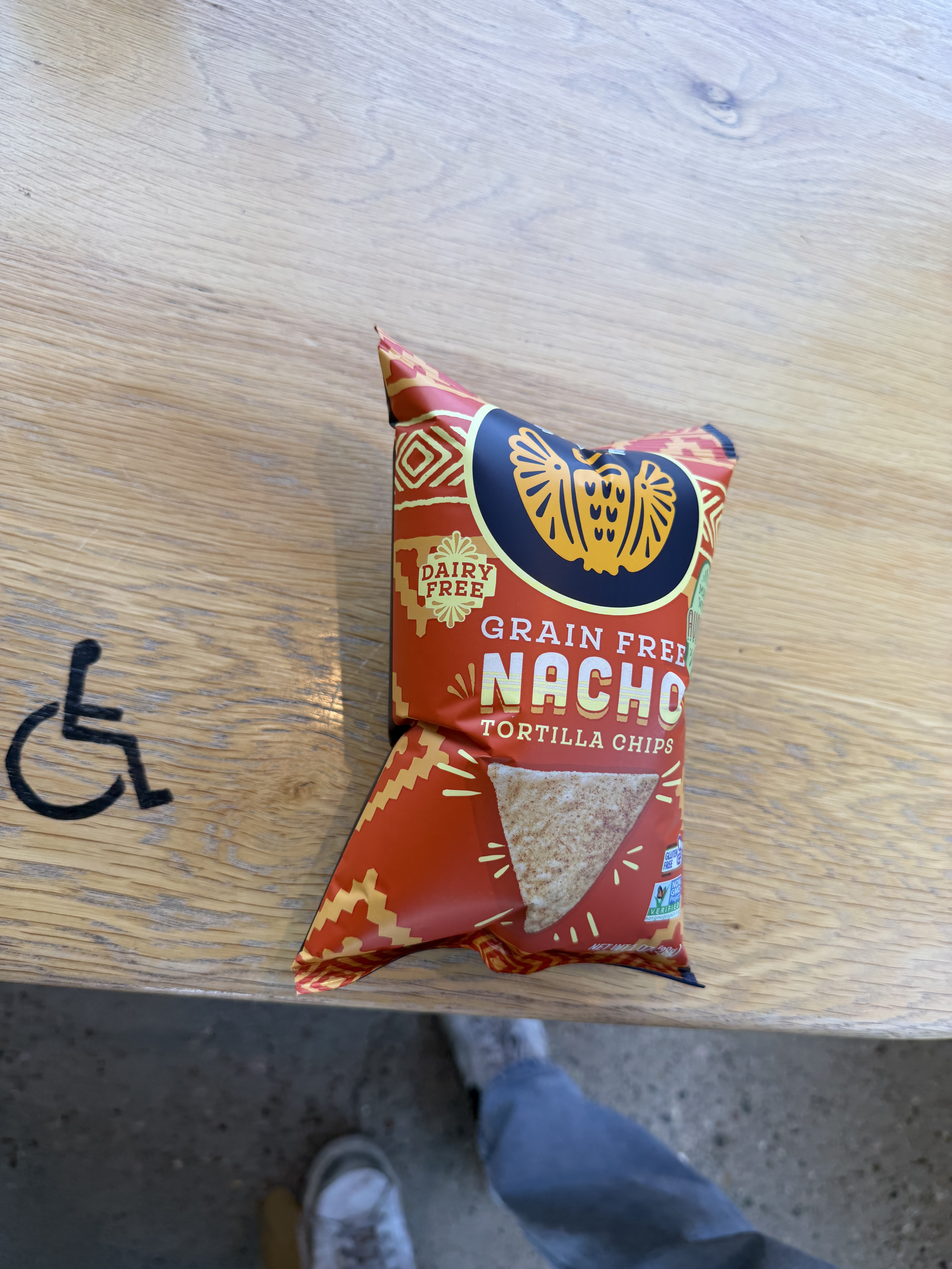nacho: (311, 309, 731, 1003)
